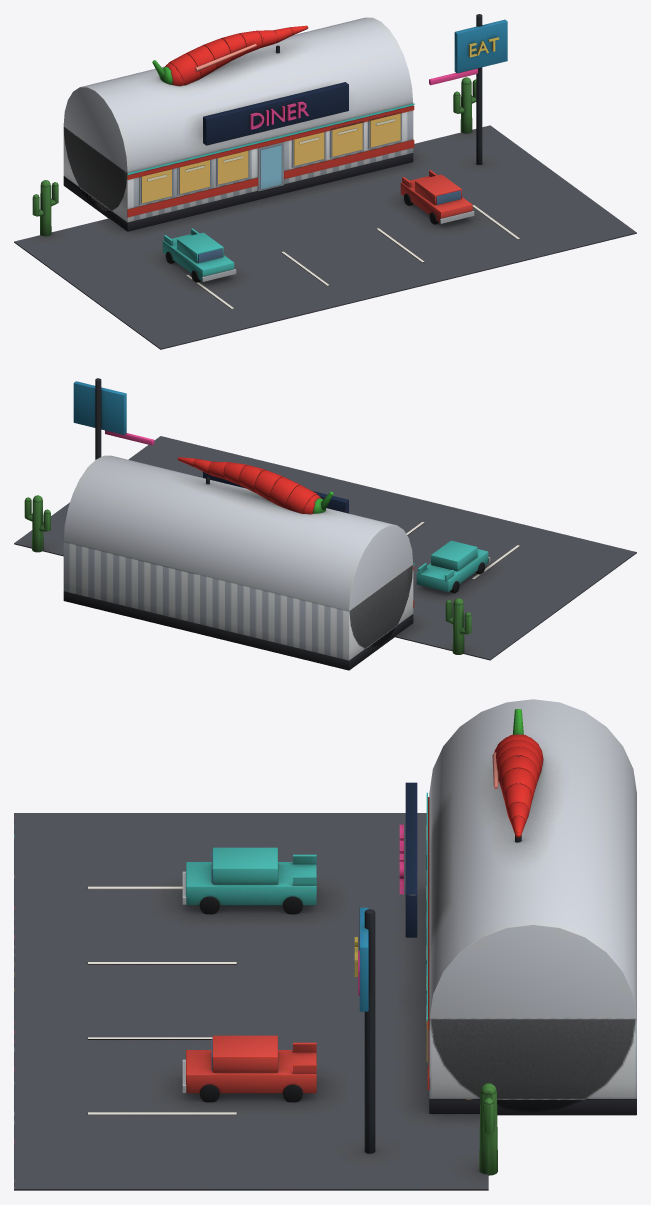
File: diner_final.glb
The picture shows the model from 3 angles, top to bottom: view 1: azimuth 30°, elevation 25°; view 2: azimuth 150°, elevation 25°; view 3: azimuth 270°, elevation 25°; orthographic projection. The views are drawn at different scales.
Visible parts, largest first — view 1: diner_final; view 2: diner_final; view 3: diner_final.
Part boxes in pixels (x1=…): diner_final: x1=14, y1=14, x2=636, y2=349; diner_final: x1=14, y1=378, x2=636, y2=670; diner_final: x1=14, y1=699, x2=636, y2=1190.
Bounding box in the file's own units: 30 × 9 × 21.
Materials: 1 (1 with a texture image).
